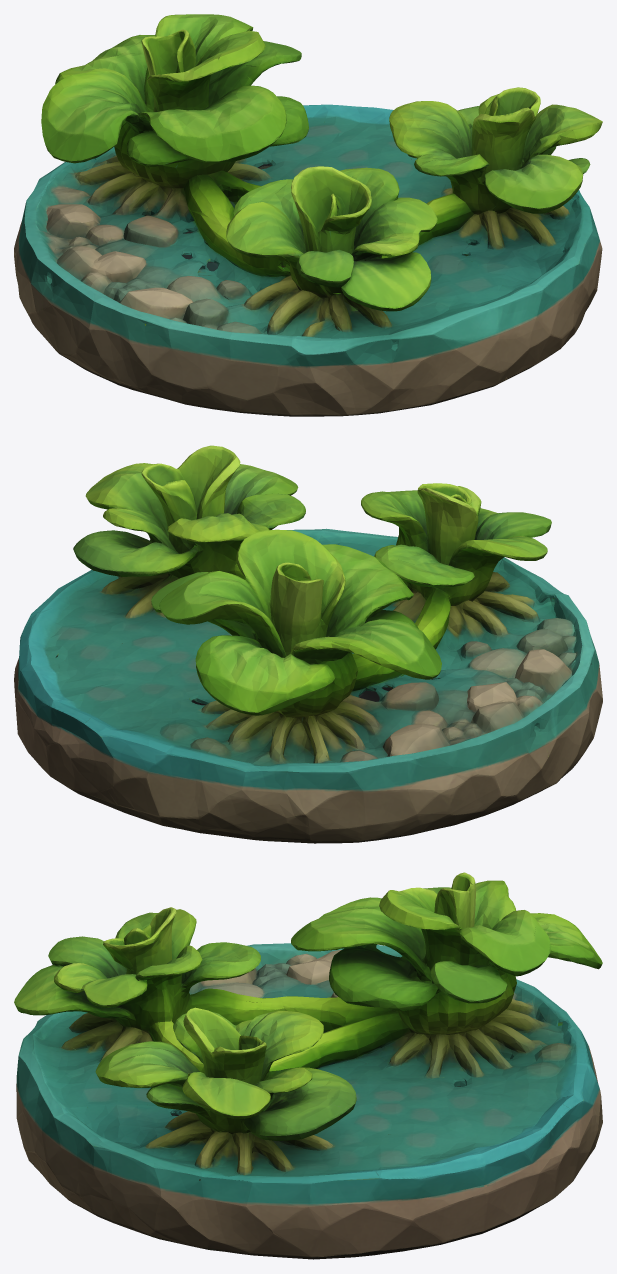
The picture shows the model from 3 angles, top to bottom: view 1: azimuth 30°, elevation 25°; view 2: azimuth 150°, elevation 25°; view 3: azimuth 270°, elevation 25°; orthographic projection.
Visible parts, largest first — view 1: world; view 2: world; view 3: world.
Part boxes in pixels (x1,y1,x2,y2): world: (14,14,602,416); world: (14,445,602,843); world: (14,872,602,1259).
Bounding box in the file's own units: 0.994 × 0.4405 × 0.9994.
1 material, 1 textured.
